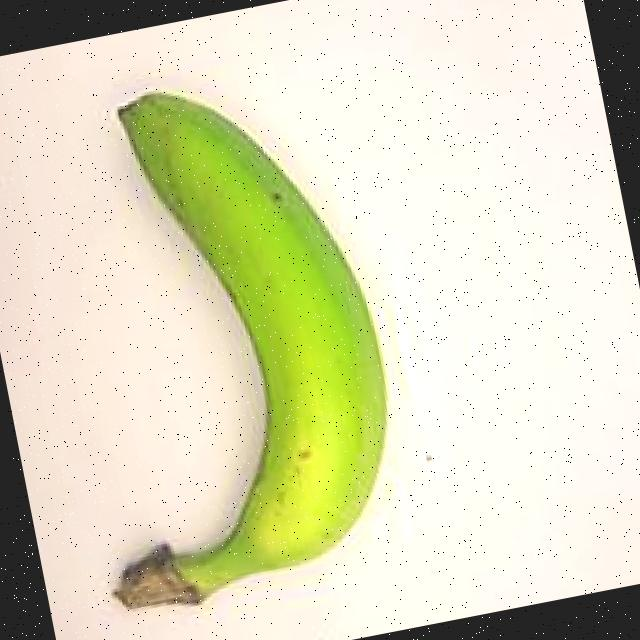Unripe: (0, 29, 453, 640)
